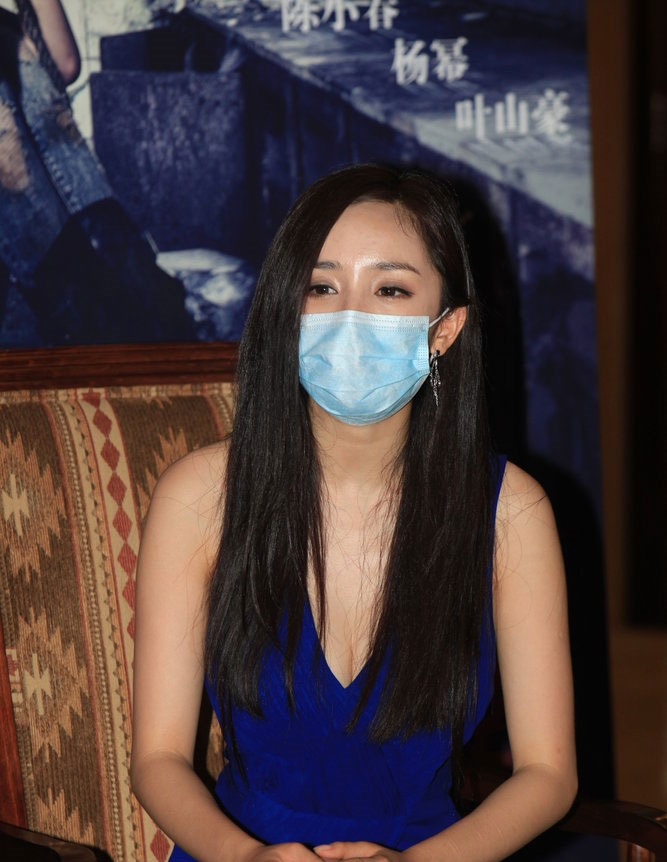face_mask: (291, 201, 439, 419)
